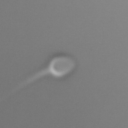normal: (4, 65, 48, 101)
